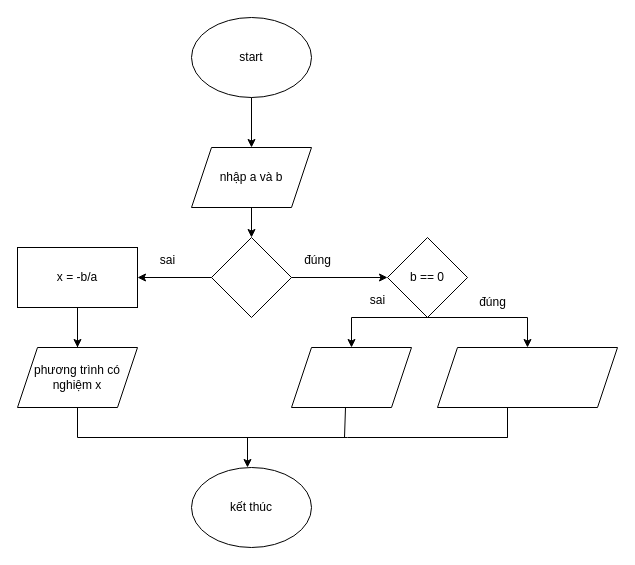
Image size: 635x565. Some labels were removed from this diagram. Each missing label, with the centre of its shape:
a == 0: point 251,277
phương trình vô nghiệm: point 351,377
phương trình vô số nghiệm: point 527,377
